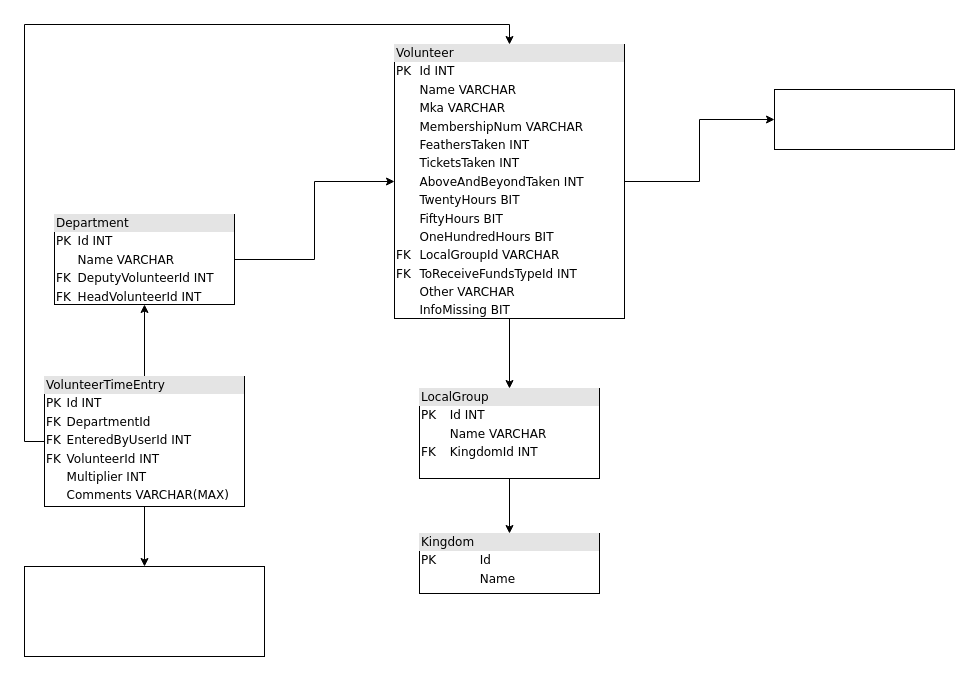
Image size: 972x674. Some labels were removed from this diagram. Here are the shapes that lost their labels. From the top down, the centre of each, then its label:
point 864,119: ToReceivedFundsType_REF PK Id INT Type VARCHAR
point 144,611: User PK Id INT Name VARCHAR (Unique) Password VARCHAR (Nullable) Admin BIT
